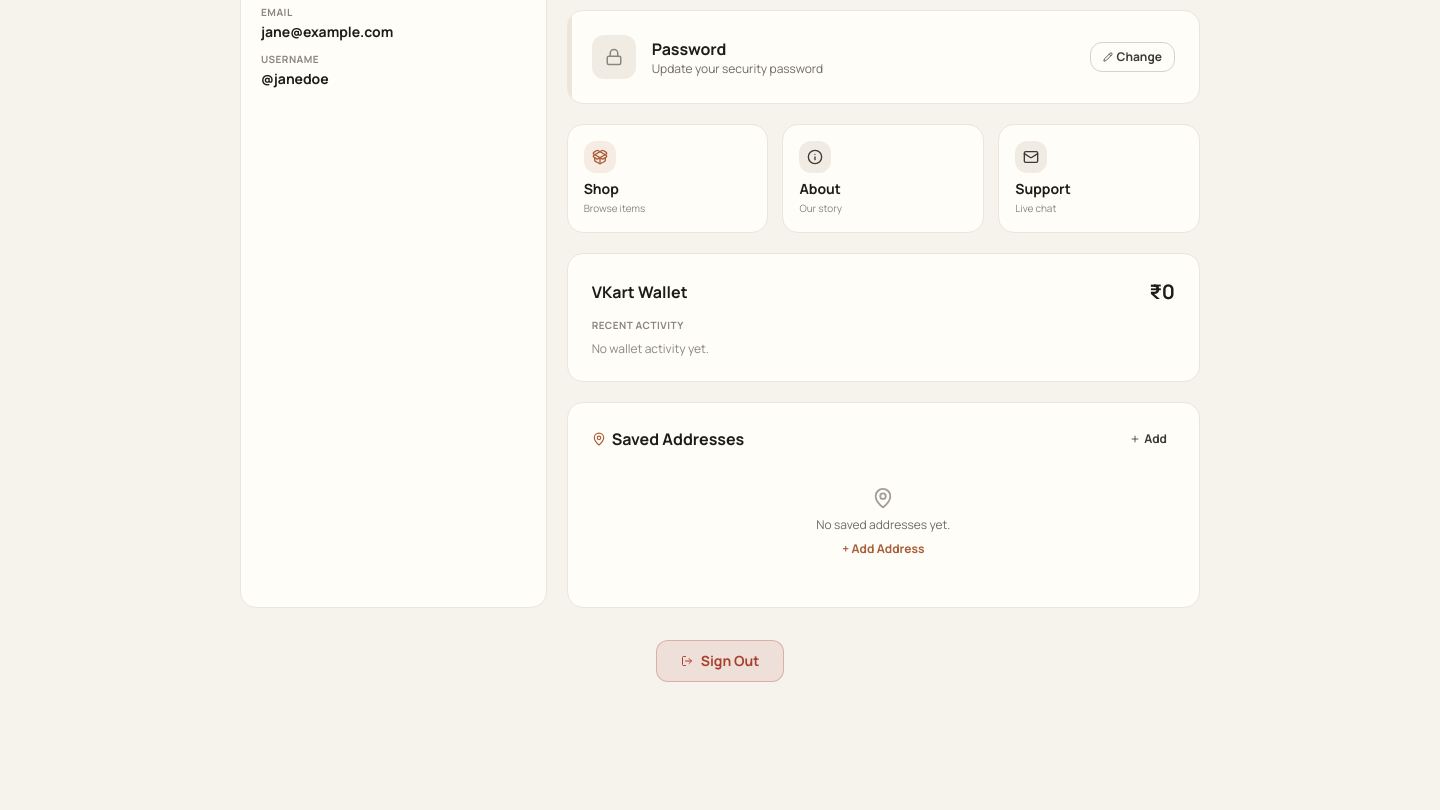
Profile Component › blocks saving an address with missing required fields
(page scrolled)
What coordinates should you click on to do the following:
click the button "+ Add Address"
I would click on:
 (883, 549)
Its box is [842,541,924,557].
(page scrolled)
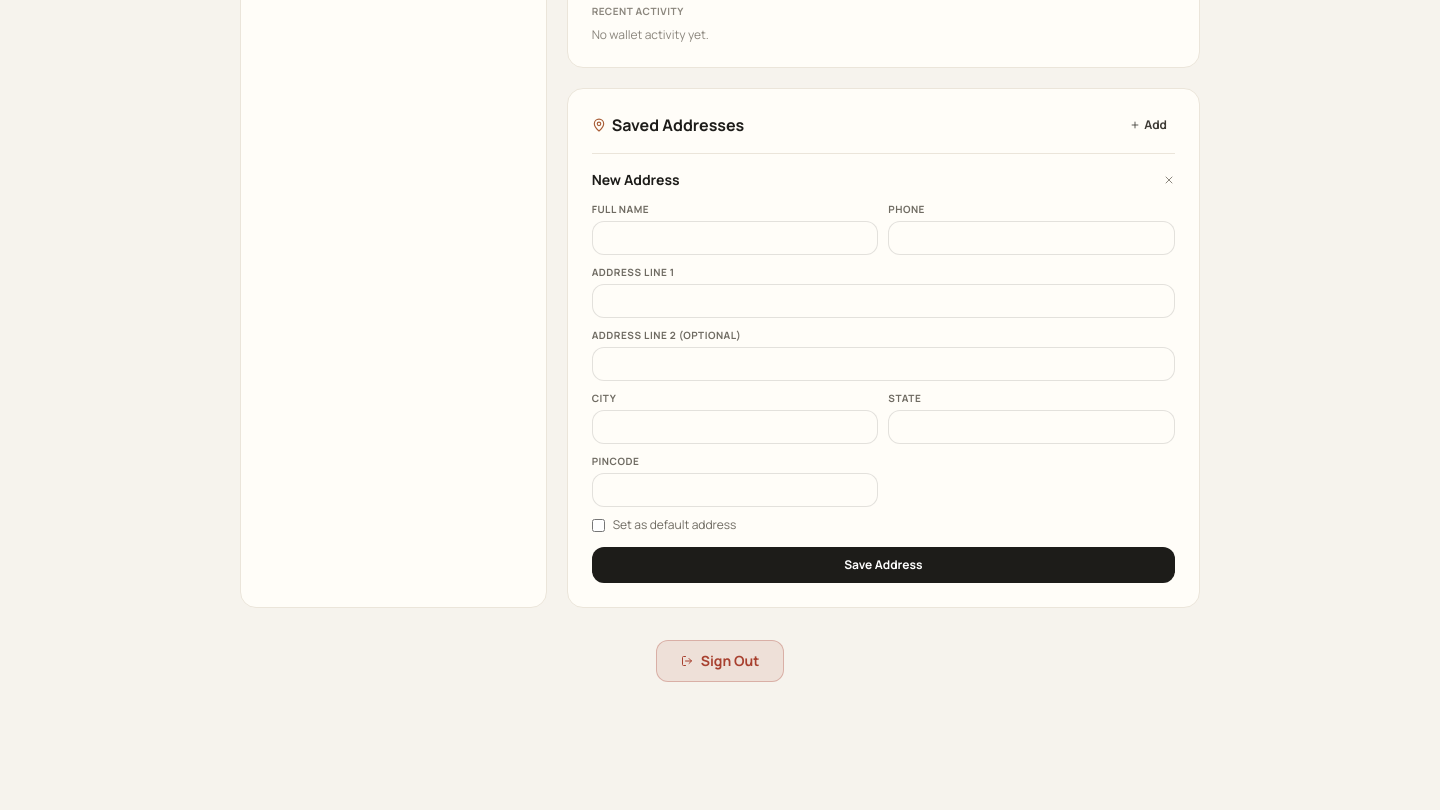
What coordinates should you click on to do the following:
click the button "Save Address"
I would click on:
 (883, 565)
Its box is [592,547,1175,583].
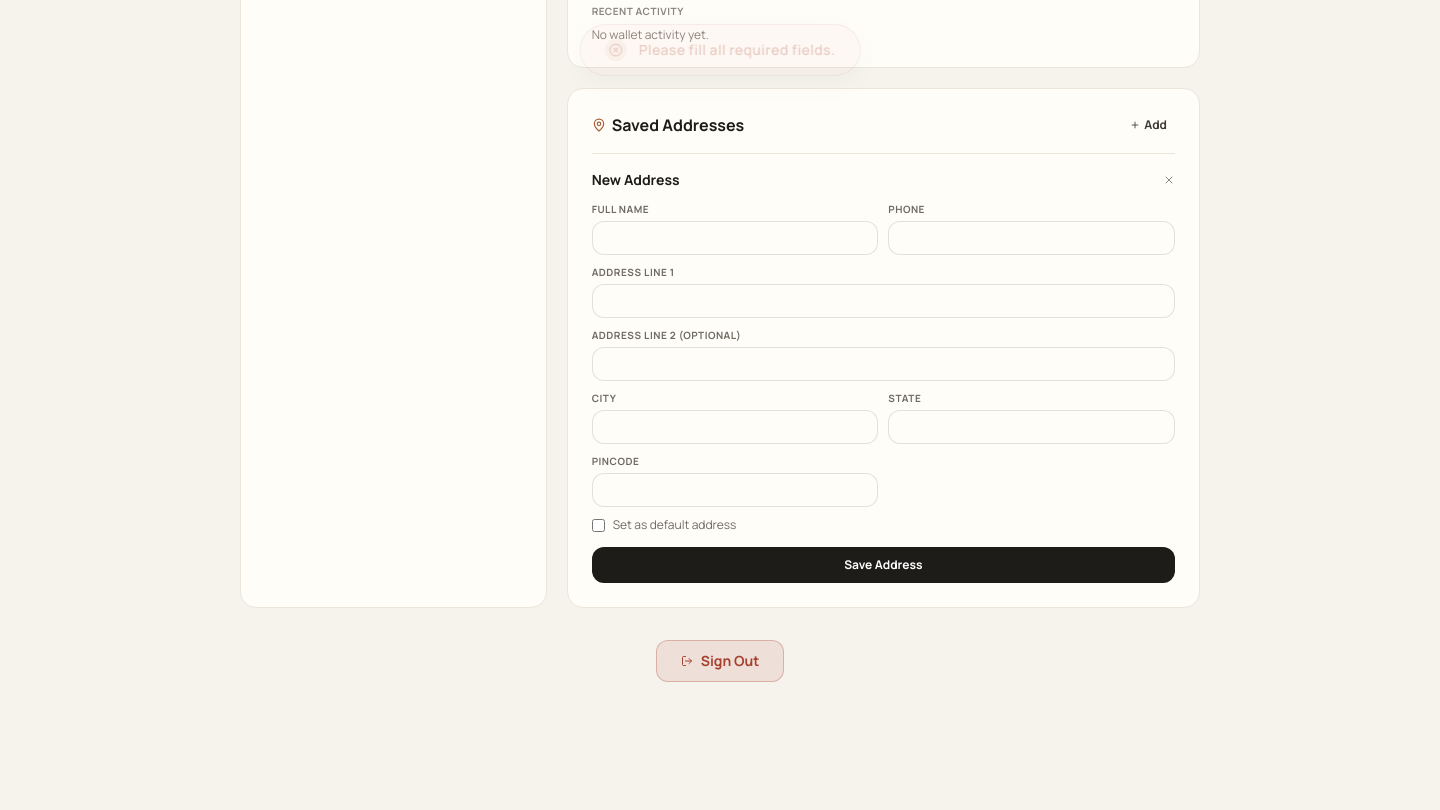
Now the text "Please fill all required fields." is shown, box [639,40,835,60]
